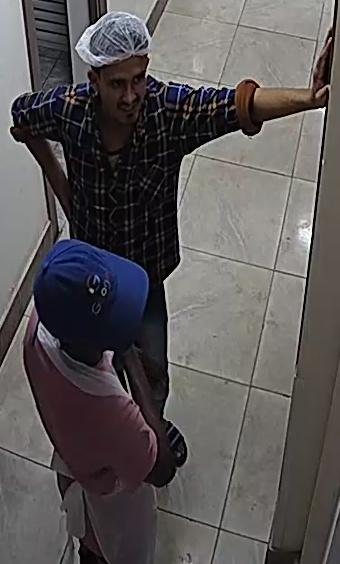no_apron: (71, 68, 186, 276)
